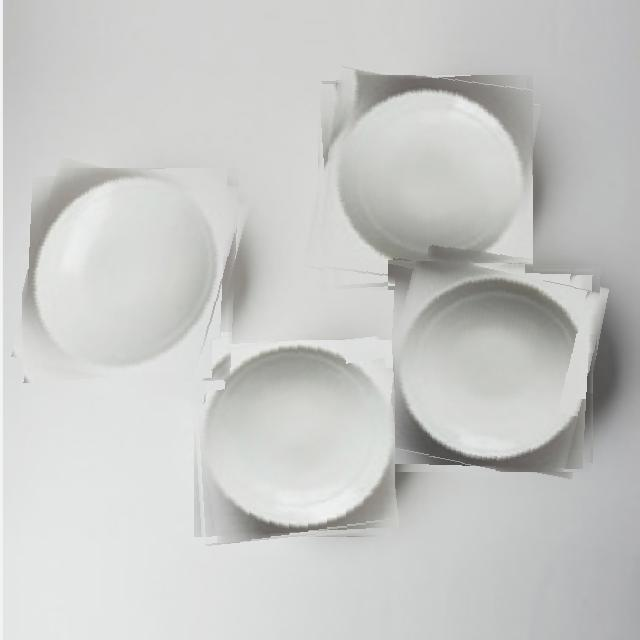recyclable: (310, 75, 533, 297), (22, 168, 240, 394), (388, 260, 601, 472), (190, 340, 395, 544)
